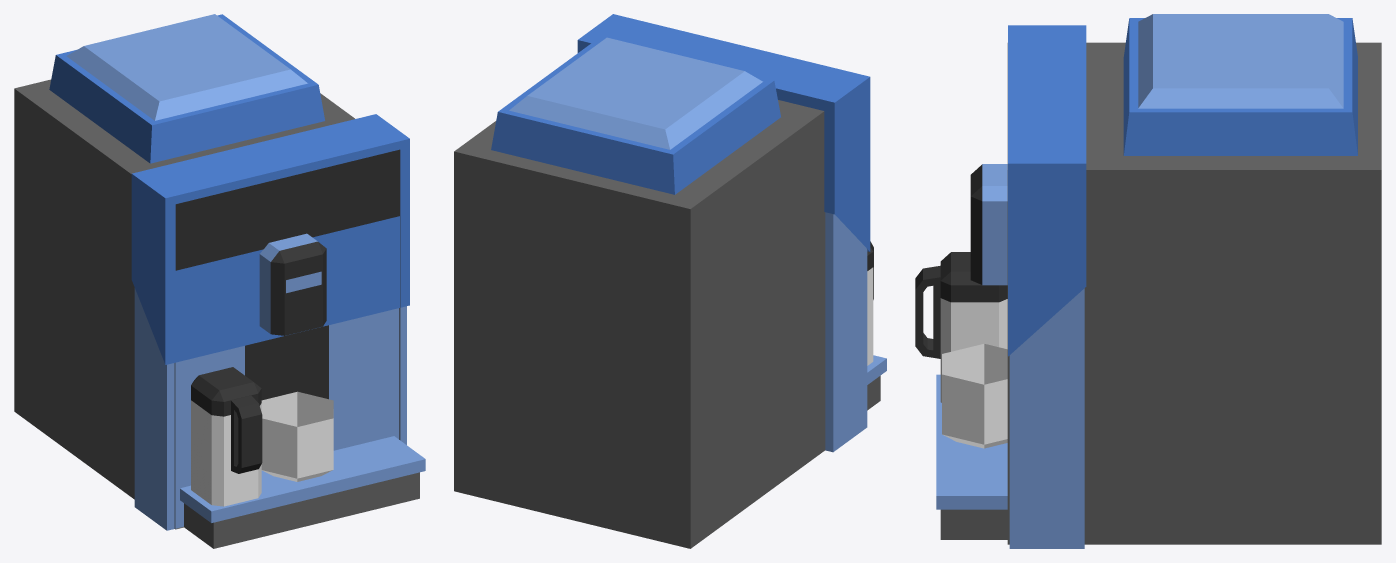
File: Cafetera.fbx
3 renders of one model, left to right at view 1: azimuth 30°, elevation 25°; view 2: azimuth 150°, elevation 25°; view 3: azimuth 270°, elevation 25°, orthographic. The views are drawn at different scales.
Parts seen in each view (by area): view 1: Cafetera; view 2: Cafetera; view 3: Cafetera.
Boxes of the visible parts, x1,y1,x2,y2 form: Cafetera: (14,14,425,548); Cafetera: (454,14,886,548); Cafetera: (915,14,1381,548).
Bounding box in the file's own units: 0.1648 × 0.2391 × 0.2346.
